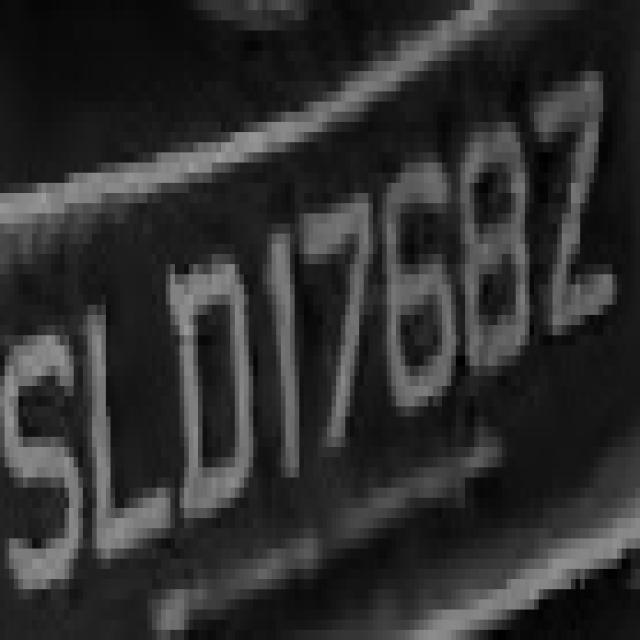1: (267, 193, 313, 508)
6: (373, 122, 465, 457)
7: (290, 152, 382, 478)
8: (442, 91, 534, 416)
D: (156, 244, 262, 559)
L: (78, 264, 175, 569)
S: (4, 294, 83, 630)
Z: (525, 51, 621, 366)
